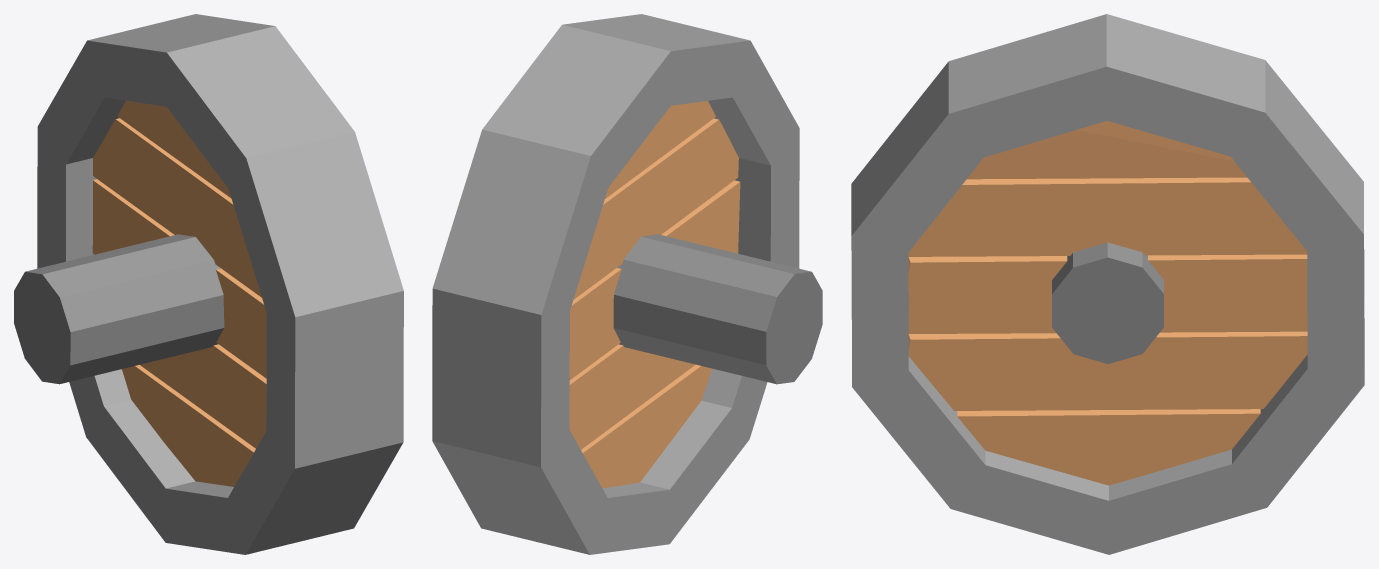
File: wheel.01.fbx
3 views of the same model, side by side, from view 1: azimuth 30°, elevation 25°; view 2: azimuth 150°, elevation 25°; view 3: azimuth 270°, elevation 25° (orthographic).
Visible parts, largest first — view 1: wheel.01; view 2: wheel.01; view 3: wheel.01.
Boxes of the visible parts, bbox=[...] form: wheel.01: bbox=[14, 14, 403, 554]; wheel.01: bbox=[432, 14, 822, 554]; wheel.01: bbox=[851, 14, 1364, 554].
Bounding box in the file's own units: 0.4372 × 0.8823 × 0.8403.
